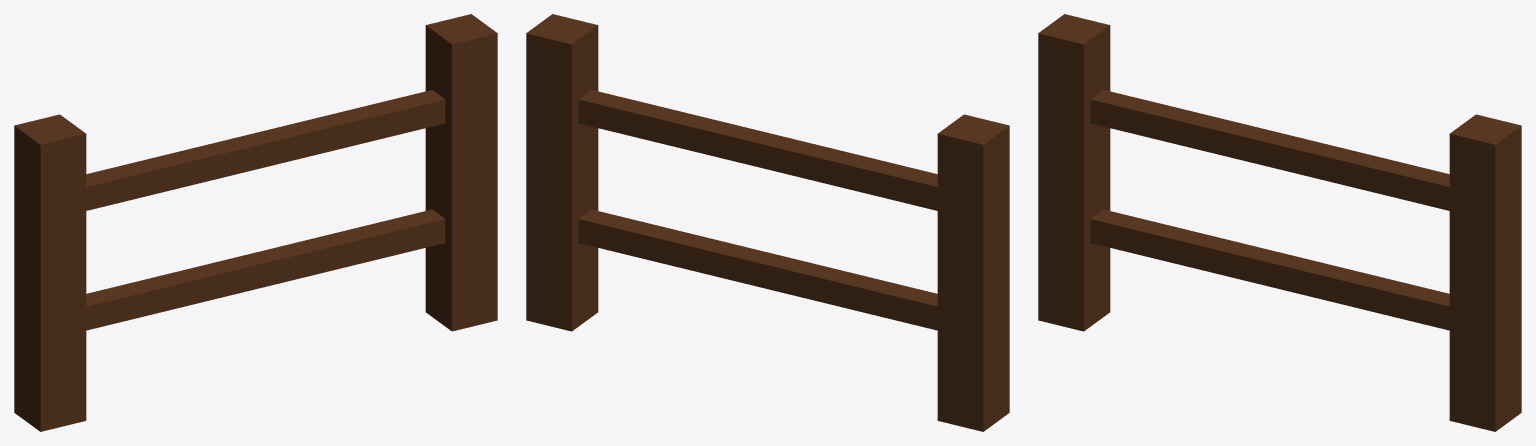
Rendered from Cerca_Tramo.obj.
3 renders of one model, left to right at view 1: azimuth 30°, elevation 25°; view 2: azimuth 150°, elevation 25°; view 3: azimuth 330°, elevation 25°, orthographic.
Visible parts, largest first — view 1: Cerca_Tramo; view 2: Cerca_Tramo; view 3: Cerca_Tramo.
Boxes of the visible parts, x1=… form: Cerca_Tramo: x1=14, y1=14, x2=497, y2=431; Cerca_Tramo: x1=526, y1=14, x2=1009, y2=431; Cerca_Tramo: x1=1038, y1=14, x2=1521, y2=431.
Bounding box in the file's own units: 2 × 1.2 × 0.2.
